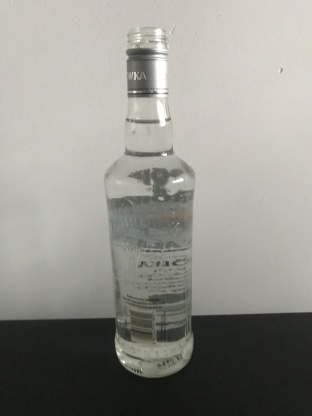nakretka: (124, 25, 170, 98)
